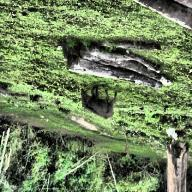boar: (76, 90, 125, 124)
